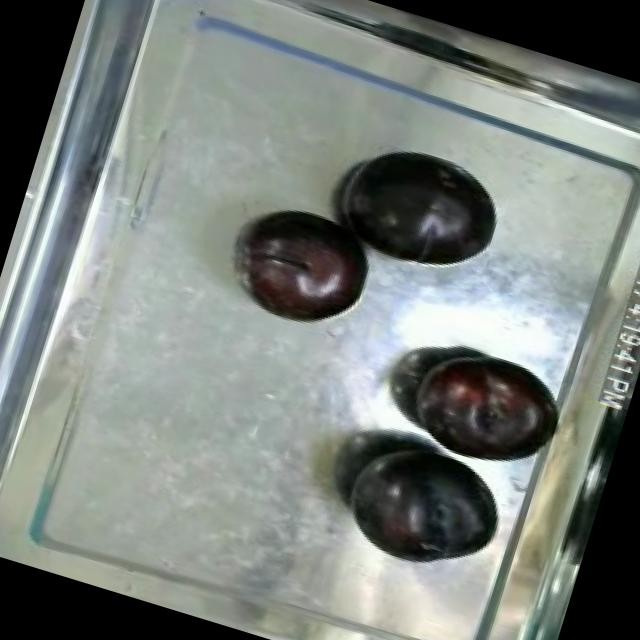Fruit: (322, 128, 514, 292), (331, 422, 519, 585), (391, 330, 568, 480), (219, 191, 386, 344)
